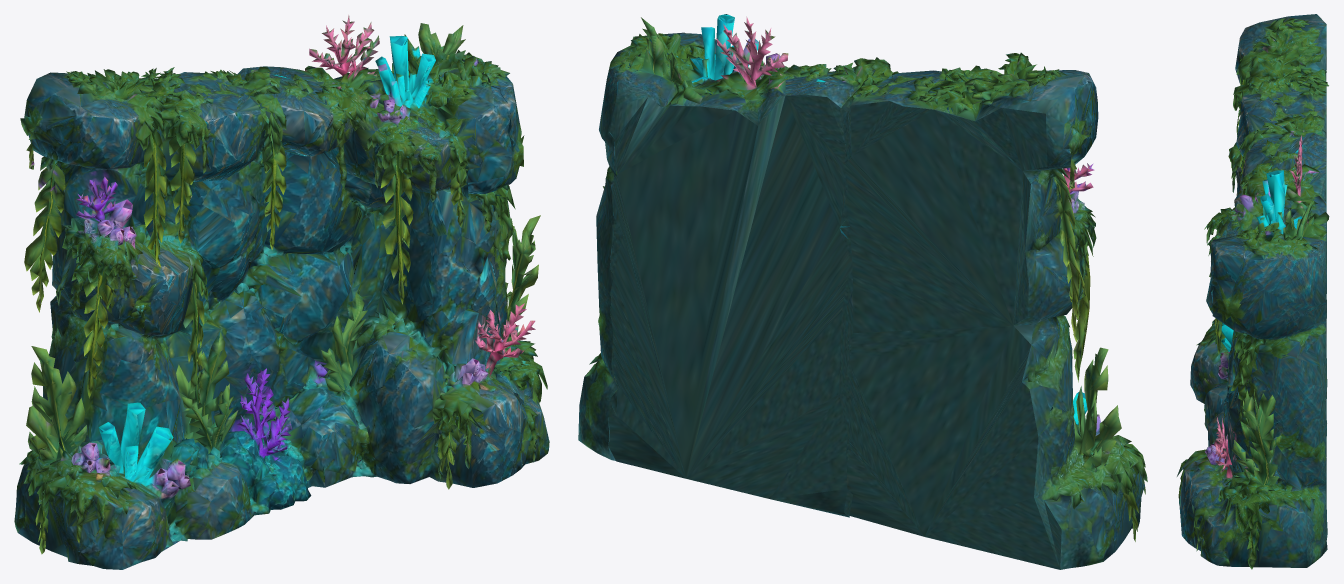
File: reef_wall.glb
3 renders of one model, left to right at view 1: azimuth 30°, elevation 25°; view 2: azimuth 150°, elevation 25°; view 3: azimuth 270°, elevation 25°, orthographic. The views are drawn at different scales.
Parts seen in each view (by area): view 1: Mesh_0; view 2: Mesh_0; view 3: Mesh_0.
Boxes of the visible parts, bbox=[...] form: Mesh_0: bbox=[14, 15, 549, 569]; Mesh_0: bbox=[578, 14, 1147, 569]; Mesh_0: bbox=[1177, 14, 1329, 569].
Size of the model in its own units: 1.9 by 1.6 by 0.5959.
1 material, 1 textured.
